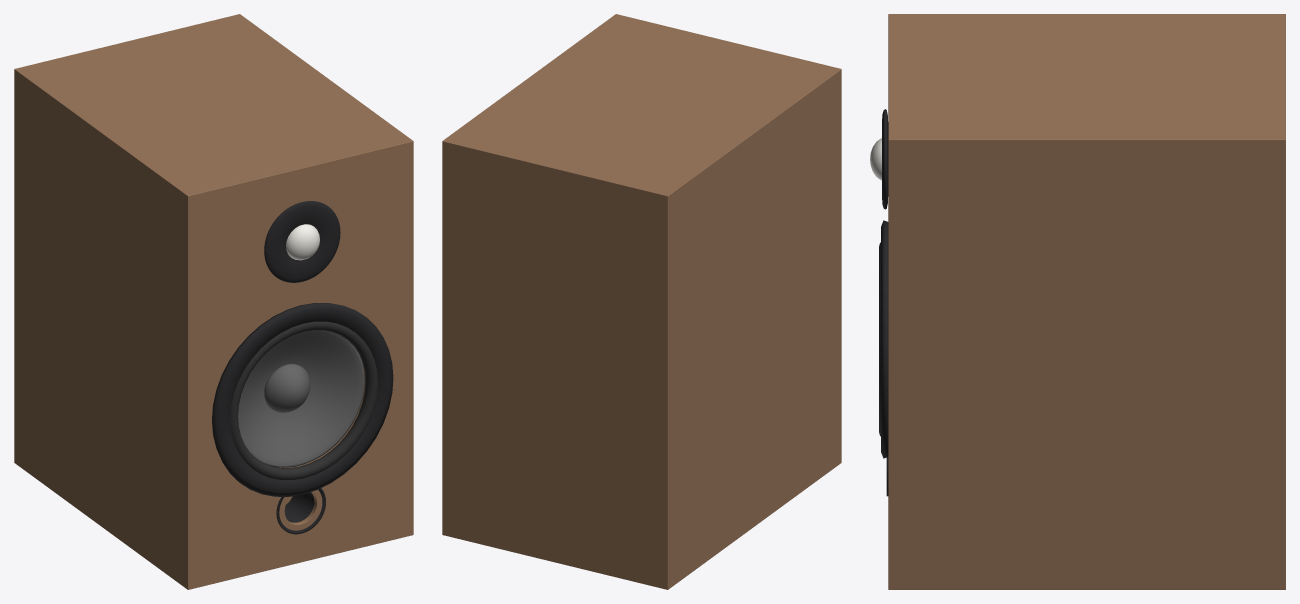
File: monitor-low.glb
3 views of the same model, side by side, from view 1: azimuth 30°, elevation 25°; view 2: azimuth 150°, elevation 25°; view 3: azimuth 270°, elevation 25° (orthographic). The views are drawn at different scales.
Visible parts, largest first — view 1: cabinet, woofer_cone, woofer_frame, woofer_surround, tweeter_plate, dust_cap, port, tweeter_dome; view 2: cabinet; view 3: cabinet, woofer_frame, tweeter_plate.
Boxes of the visible parts, x1,y1,x2,y2 form: cabinet: (14,14,413,589); woofer_cone: (238,330,364,467); woofer_frame: (212,303,393,496); woofer_surround: (230,321,377,479); tweeter_plate: (264,201,340,282); dust_cap: (264,364,310,412); port: (276,488,325,534); tweeter_dome: (286,224,319,260); cabinet: (442,14,841,589); cabinet: (888,14,1285,589); woofer_frame: (881,220,888,458); tweeter_plate: (882,109,888,209).
Size of the model in its own units: 0.18 by 0.304 by 0.2511.
